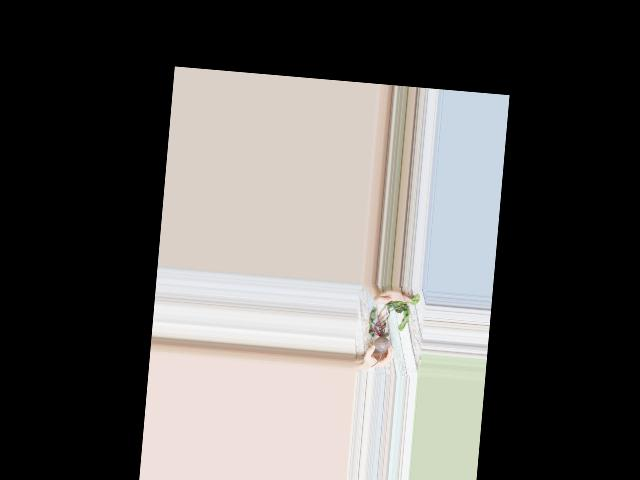beet: (365, 290, 420, 371)
